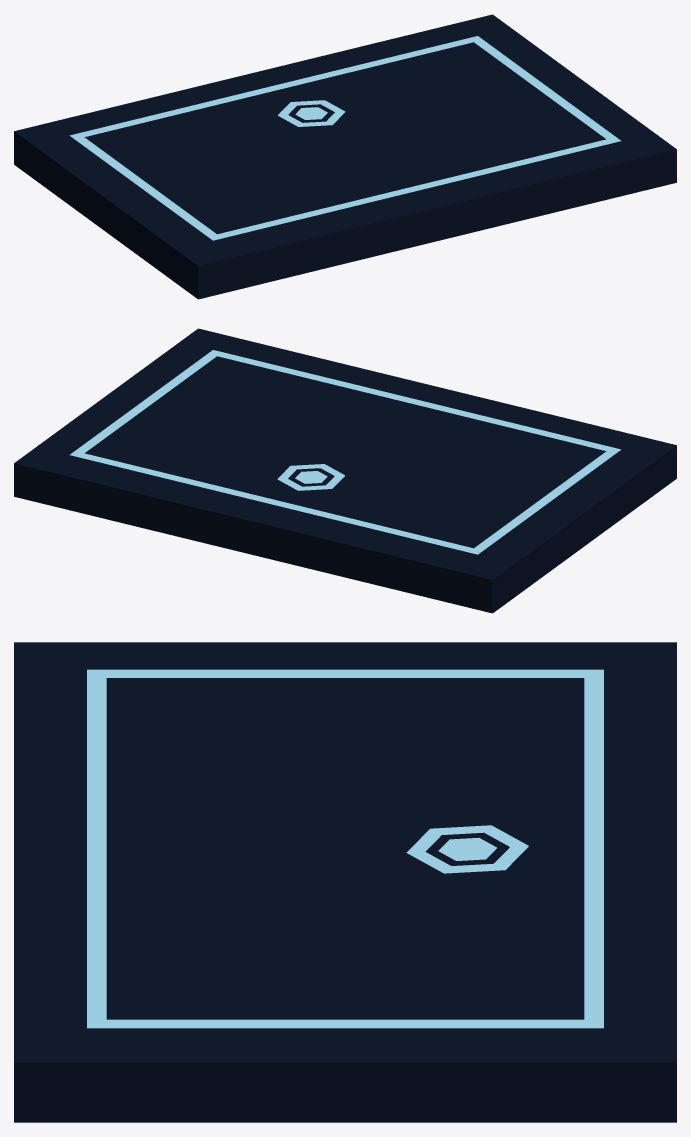
Rendered from W_O_Playground_Finish_S_L2.fbx.
3 views of the same model, one above another, from view 1: azimuth 30°, elevation 25°; view 2: azimuth 150°, elevation 25°; view 3: azimuth 270°, elevation 25° (orthographic). The views are drawn at different scales.
Visible parts, largest first — view 1: W_O_Playground_Finish_S_L2; view 2: W_O_Playground_Finish_S_L2; view 3: W_O_Playground_Finish_S_L2.
Part boxes in pixels (x1=…): W_O_Playground_Finish_S_L2: x1=14, y1=14, x2=676, y2=299; W_O_Playground_Finish_S_L2: x1=14, y1=328, x2=676, y2=613; W_O_Playground_Finish_S_L2: x1=14, y1=642, x2=676, y2=1122.
Bounding box in the file's own units: 3 × 0.212 × 2.
